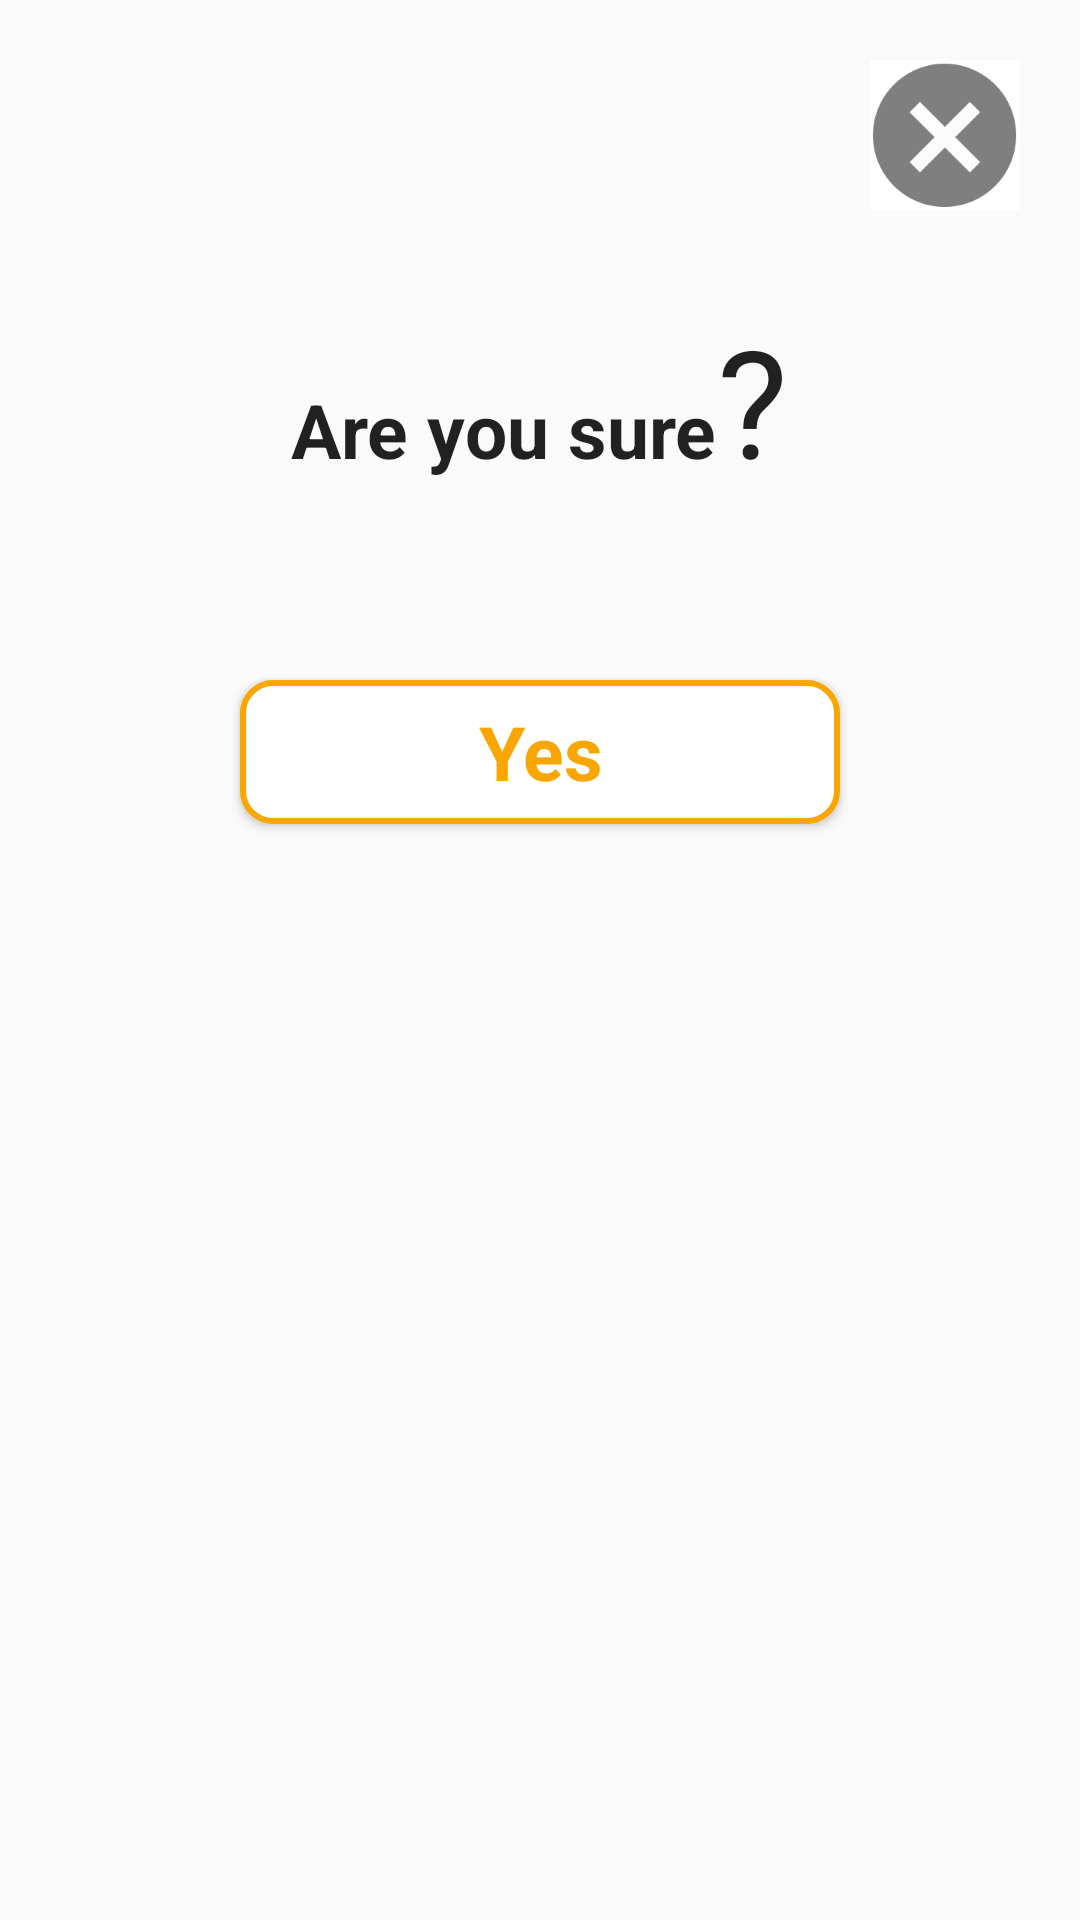

Where to tap for icons on this 1080x1920 app screen, as (x,y):
close: (944,135)
